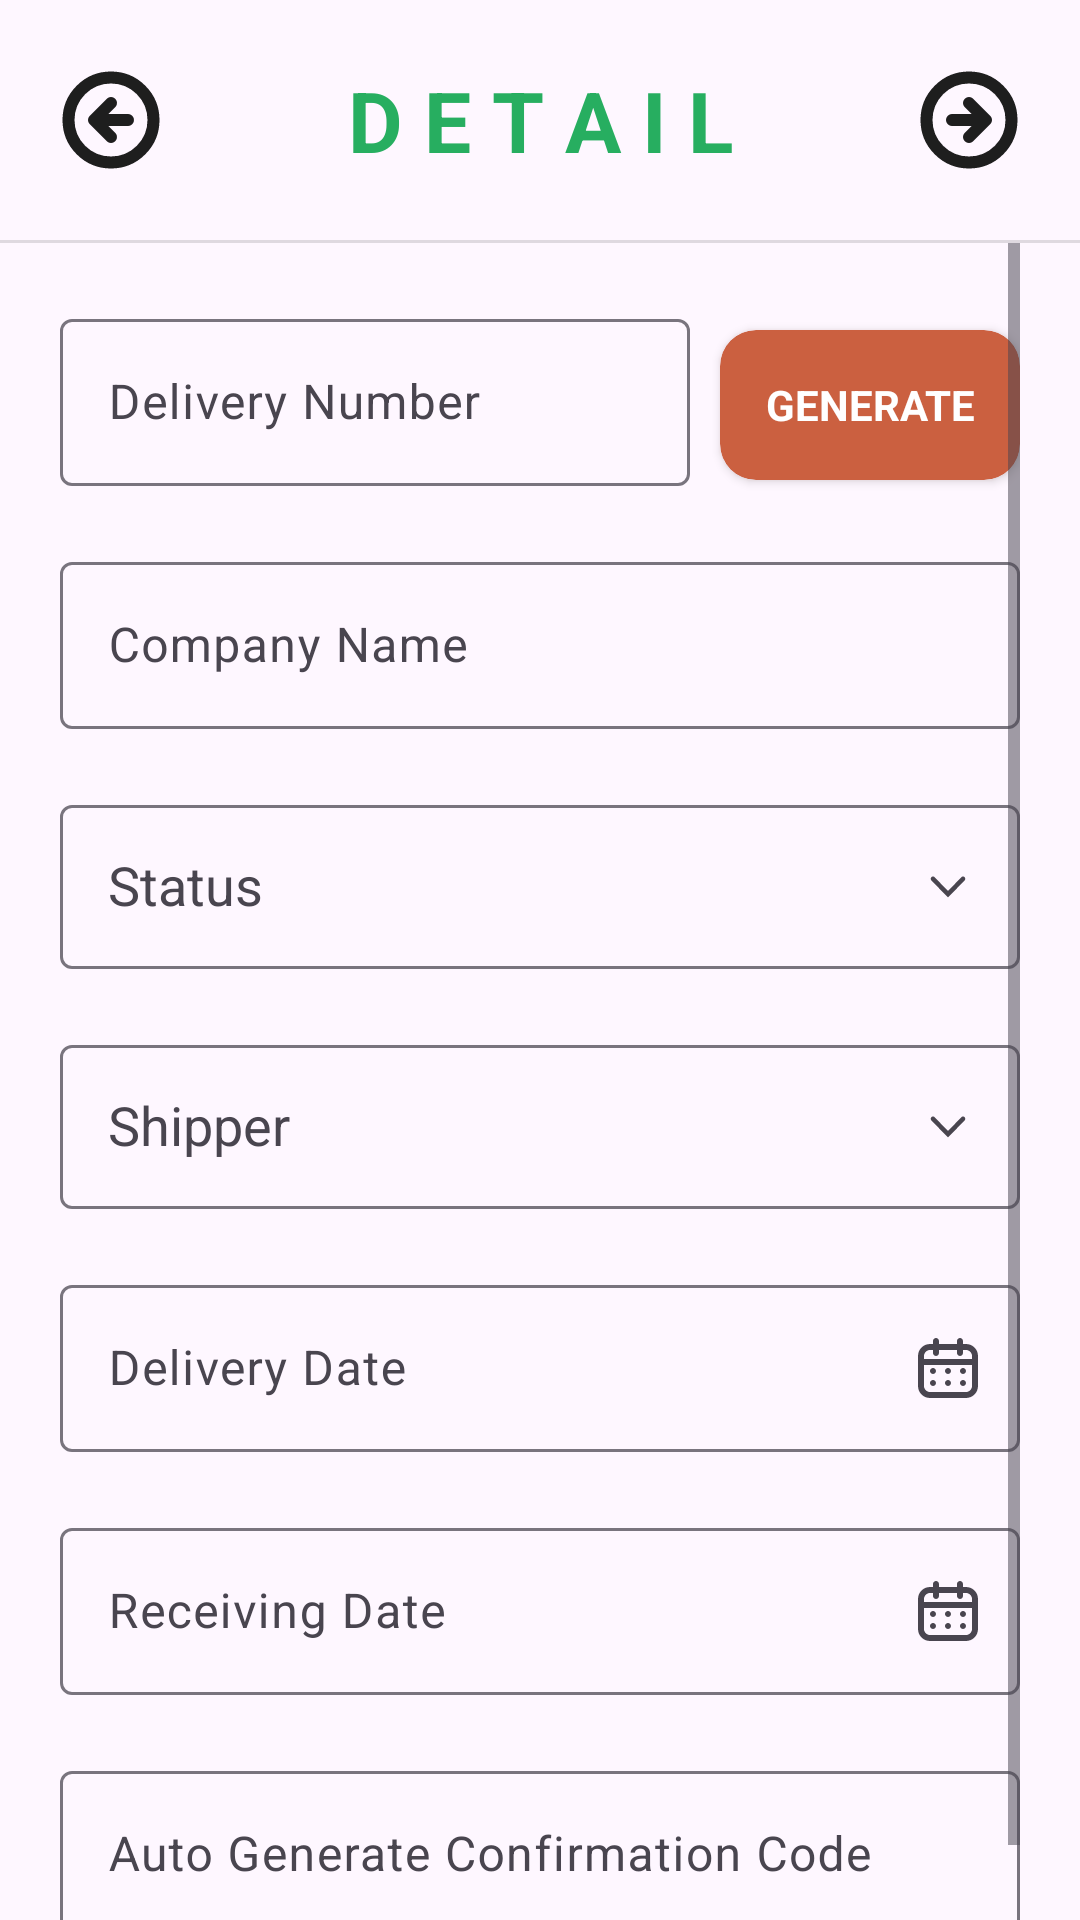

Icons on this 1080px×1920px Android screen, each with its box as (left=x1, top=y1, right=x2, bottom=y2):
Icon Back: (left=62, top=71, right=160, bottom=169)
Icon Next: (left=920, top=71, right=1018, bottom=169)
